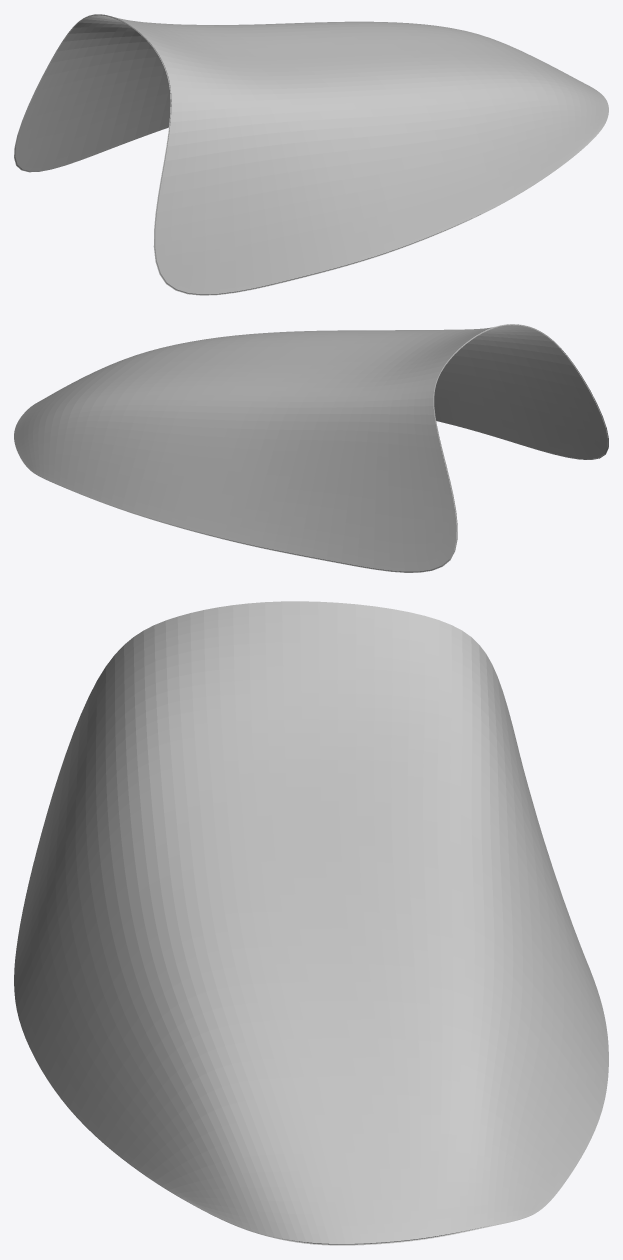
The model's file is frontRightGrey.obj.
The picture shows the model from 3 angles, top to bottom: view 1: azimuth 30°, elevation 25°; view 2: azimuth 150°, elevation 25°; view 3: azimuth 270°, elevation 25°; orthographic projection. The views are drawn at different scales.
Visible parts, largest first — view 1: Plane; view 2: Plane; view 3: Plane.
Part boxes in pixels (<box>): Plane: <box>14,14,608,295</box>; Plane: <box>14,324,608,572</box>; Plane: <box>14,601,608,1245</box>.
Bounding box in the file's own units: 14.6 × 5.14 × 9.
1 material, 1 textured.
